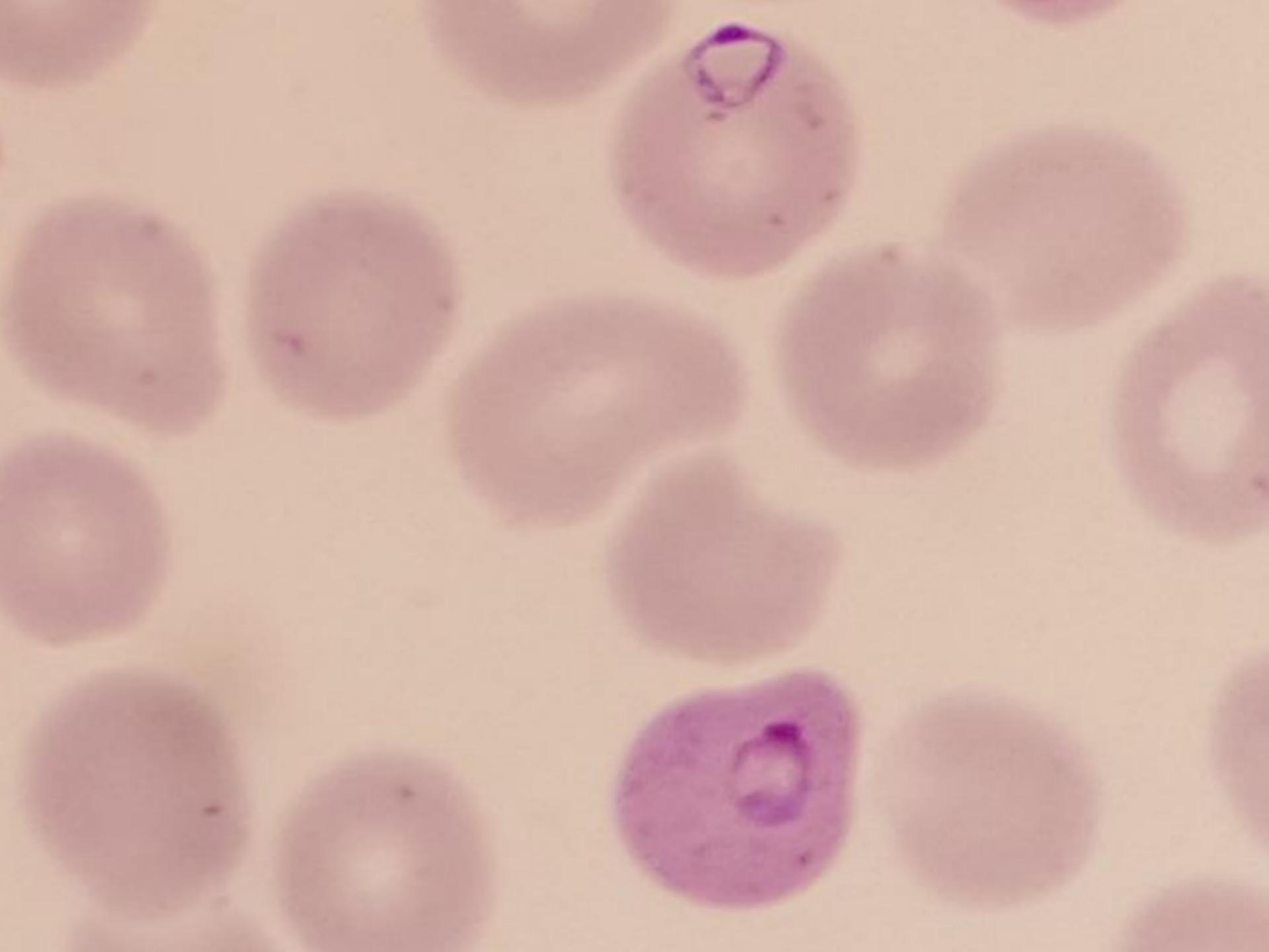Infected: (605, 17, 860, 281), (613, 668, 862, 907)
Uninfected: (448, 298, 742, 528), (28, 673, 252, 914), (773, 245, 1006, 471), (601, 451, 847, 665), (3, 200, 224, 435), (243, 194, 459, 415), (877, 694, 1102, 906), (967, 132, 1201, 331), (283, 747, 496, 949), (1115, 279, 1269, 546), (0, 440, 161, 648)
